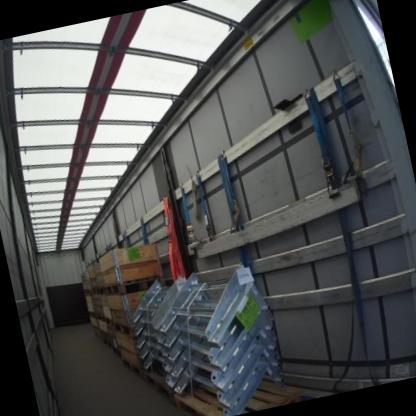pallet: (167, 349, 301, 416), (103, 269, 169, 303), (143, 367, 176, 413), (107, 312, 135, 340), (121, 353, 144, 383), (93, 307, 109, 329), (88, 282, 107, 298), (79, 283, 93, 300), (102, 336, 113, 354), (85, 305, 96, 320), (93, 331, 103, 343)
